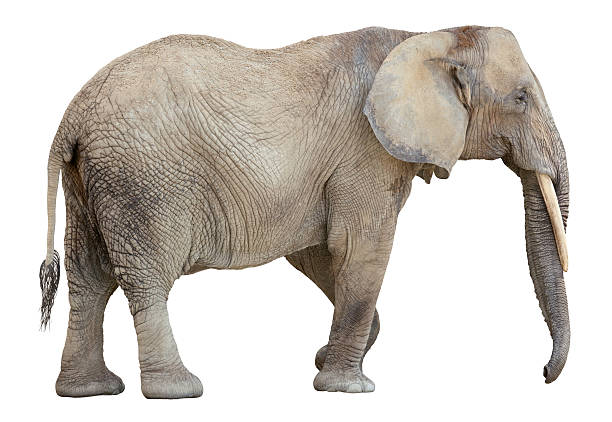africanelephant: (400, 39, 558, 266)
